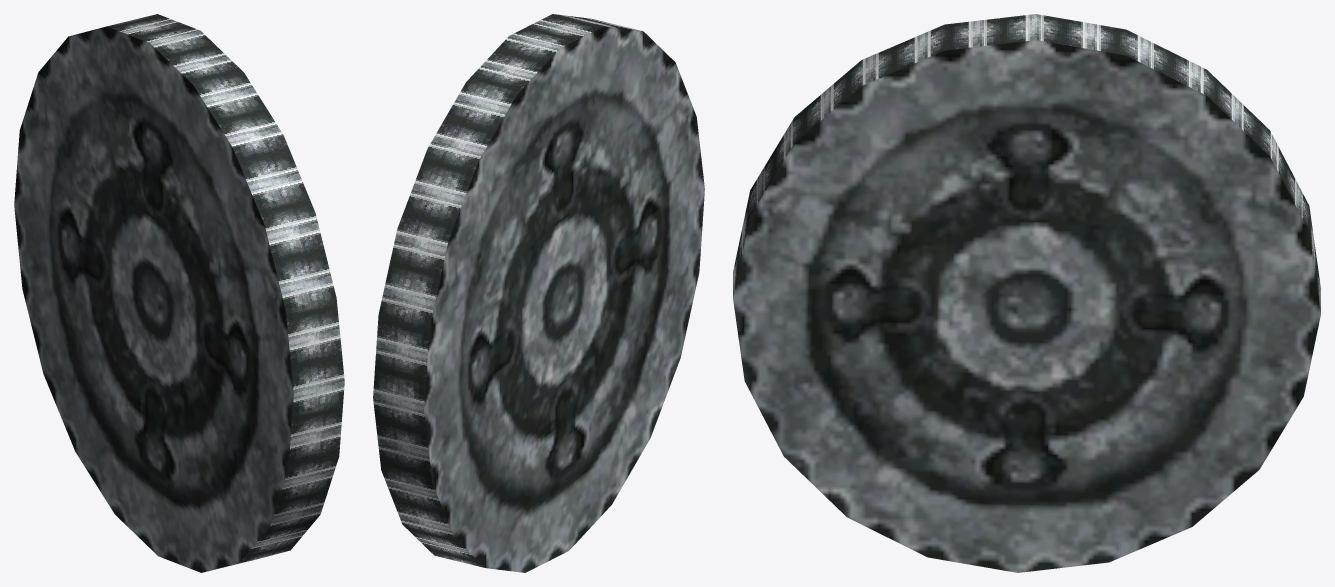
Rendered from INST_PUZZLE_PIECE2_PIECE2_SILVER.fbx.
3 renders of one model, left to right at view 1: azimuth 30°, elevation 25°; view 2: azimuth 150°, elevation 25°; view 3: azimuth 270°, elevation 25°, orthographic. The views are drawn at different scales.
Parts seen in each view (by area): view 1: INST_PUZZLE_PIECE2_PIECE2_SILVER; view 2: INST_PUZZLE_PIECE2_PIECE2_SILVER; view 3: INST_PUZZLE_PIECE2_PIECE2_SILVER.
Boxes of the visible parts, x1,y1,x2,y2 form: INST_PUZZLE_PIECE2_PIECE2_SILVER: (14, 14, 344, 572); INST_PUZZLE_PIECE2_PIECE2_SILVER: (373, 14, 704, 572); INST_PUZZLE_PIECE2_PIECE2_SILVER: (733, 14, 1320, 572).
Bounding box in the file's own units: 488 × 4648 × 4648.
2 materials, 2 textured.
